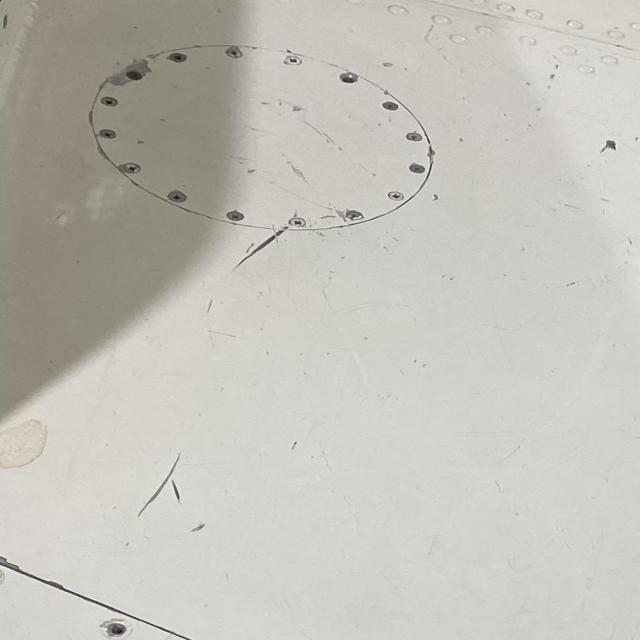Missing-head: (103, 620, 130, 638), (336, 69, 363, 87)
